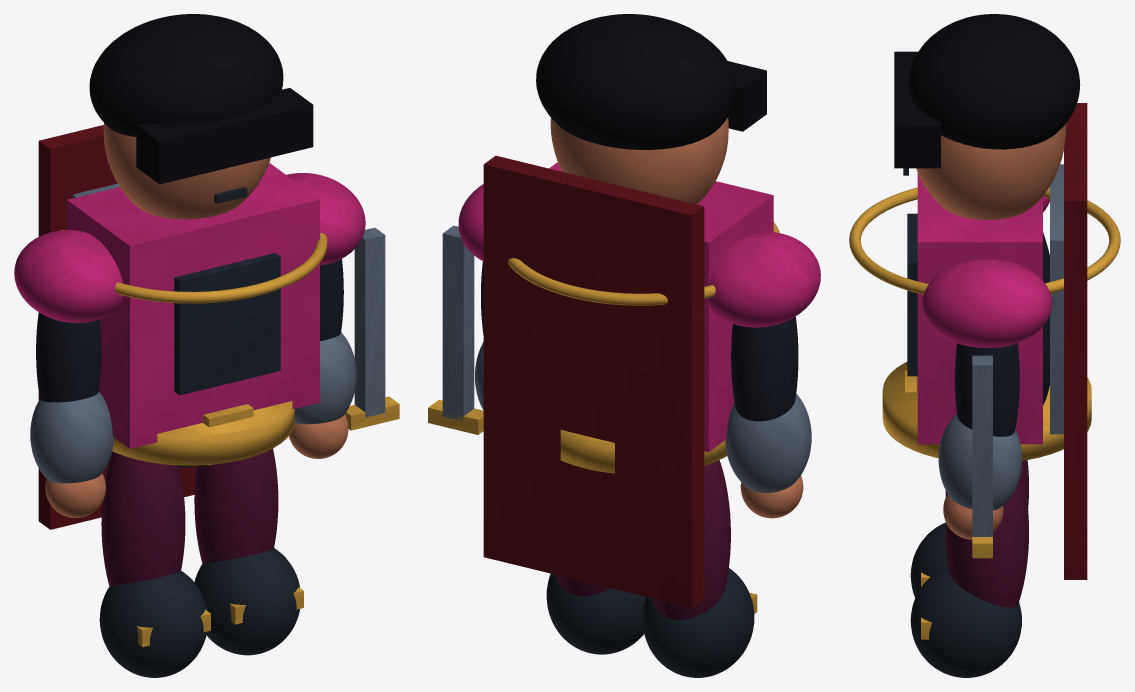
Rendered from Advanced.glb.
The picture shows the model from 3 angles, left to right: view 1: azimuth 30°, elevation 25°; view 2: azimuth 150°, elevation 25°; view 3: azimuth 270°, elevation 25°; orthographic projection. The views are drawn at different scales.
Visible parts, largest first — view 1: ChestPlate, Hair, ChestInset, HairFringe, Leg, Boot, Boot.001, Leg.001, Shoulder, Cape, Head, Gauntlet (+11 smaller); view 2: Cape, Hair, Shoulder, Head, ChestPlate, Boot, Arm, Dagger, Gauntlet, Boot.001, Leg, ShoulderCrest (+6 smaller); view 3: Hair, ChestPlate, Cape, Shoulder.001, Head, Boot.001, Leg.001, Gauntlet.001, Arm.001, Dagger, WaistGuard, HairFringe (+7 smaller).
Part boxes in pixels (x1=…): ChestPlate: x1=67, y1=163, x2=319, y2=448; Hair: x1=89, y1=14, x2=283, y2=136; ChestInset: x1=174, y1=253, x2=280, y2=395; HairFringe: x1=136, y1=88, x2=313, y2=184; Leg: x1=101, y1=451, x2=185, y2=586; Boot: x1=99, y1=571, x2=206, y2=677; Boot.001: x1=194, y1=548, x2=299, y2=655; Leg.001: x1=194, y1=448, x2=278, y2=563; Shoulder: x1=14, y1=230, x2=123, y2=322; Cape: x1=38, y1=125, x2=196, y2=529; Head: x1=103, y1=123, x2=270, y2=219; Gauntlet: x1=30, y1=391, x2=113, y2=483; Cape: x1=483, y1=155, x2=704, y2=607; Hair: x1=536, y1=14, x2=735, y2=149; Shoulder: x1=706, y1=231, x2=820, y2=327; Head: x1=550, y1=117, x2=728, y2=204; ChestPlate: x1=549, y1=162, x2=773, y2=452; Boot: x1=642, y1=568, x2=754, y2=677; Arm: x1=731, y1=316, x2=798, y2=421; Dagger: x1=442, y1=225, x2=474, y2=421; Gauntlet: x1=725, y1=394, x2=811, y2=492; Boot.001: x1=546, y1=573, x2=646, y2=654; Leg: x1=652, y1=460, x2=730, y2=619; ShoulderCrest: x1=508, y1=222, x2=779, y2=305; Hair: x1=908, y1=14, x2=1080, y2=149; ChestPlate: x1=917, y1=173, x2=1042, y2=444; Cape: x1=1064, y1=103, x2=1087, y2=579; Shoulder.001: x1=922, y1=259, x2=1052, y2=347; Head: x1=916, y1=124, x2=1066, y2=219; Boot.001: x1=910, y1=567, x2=1021, y2=677; Leg.001: x1=945, y1=471, x2=1028, y2=607; Gauntlet.001: x1=938, y1=413, x2=1021, y2=510; Arm.001: x1=954, y1=343, x2=1019, y2=436; Dagger: x1=972, y1=355, x2=992, y2=536; WaistGuard: x1=882, y1=362, x2=1091, y2=460; HairFringe: x1=894, y1=51, x2=940, y2=168.
Size of the model in its own units: 1.82 by 2.96 by 1.17.
11 materials, 9 textured.
